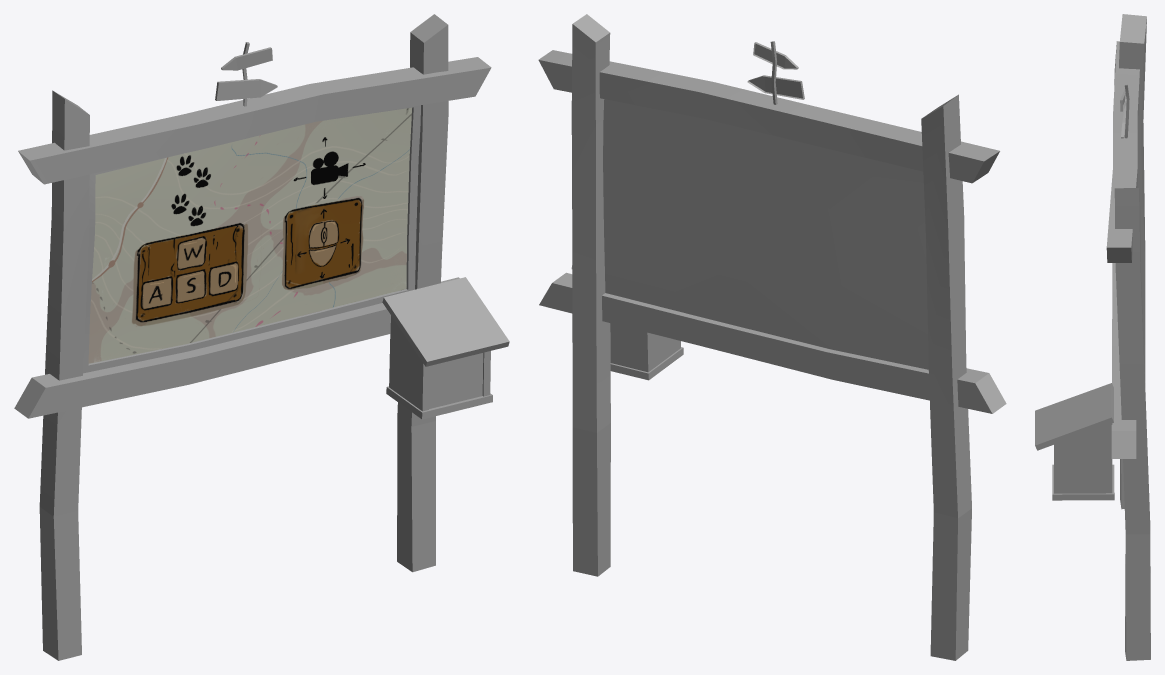
The model's file is Post_small_Ctrls2.fbx.
3 renders of one model, left to right at view 1: azimuth 30°, elevation 25°; view 2: azimuth 150°, elevation 25°; view 3: azimuth 270°, elevation 25°, orthographic. The views are drawn at different scales.
Visible parts, largest first — view 1: Post_Small; view 2: Post_Small; view 3: Post_Small.
Boxes of the visible parts, <box> form: Post_Small: <box>14,14,509,660</box>; Post_Small: <box>538,14,1006,660</box>; Post_Small: <box>1035,14,1150,660</box>.
Bounding box in the file's own units: 4.77 × 5.63 × 1.19.
Materials: 2 (1 with a texture image).
